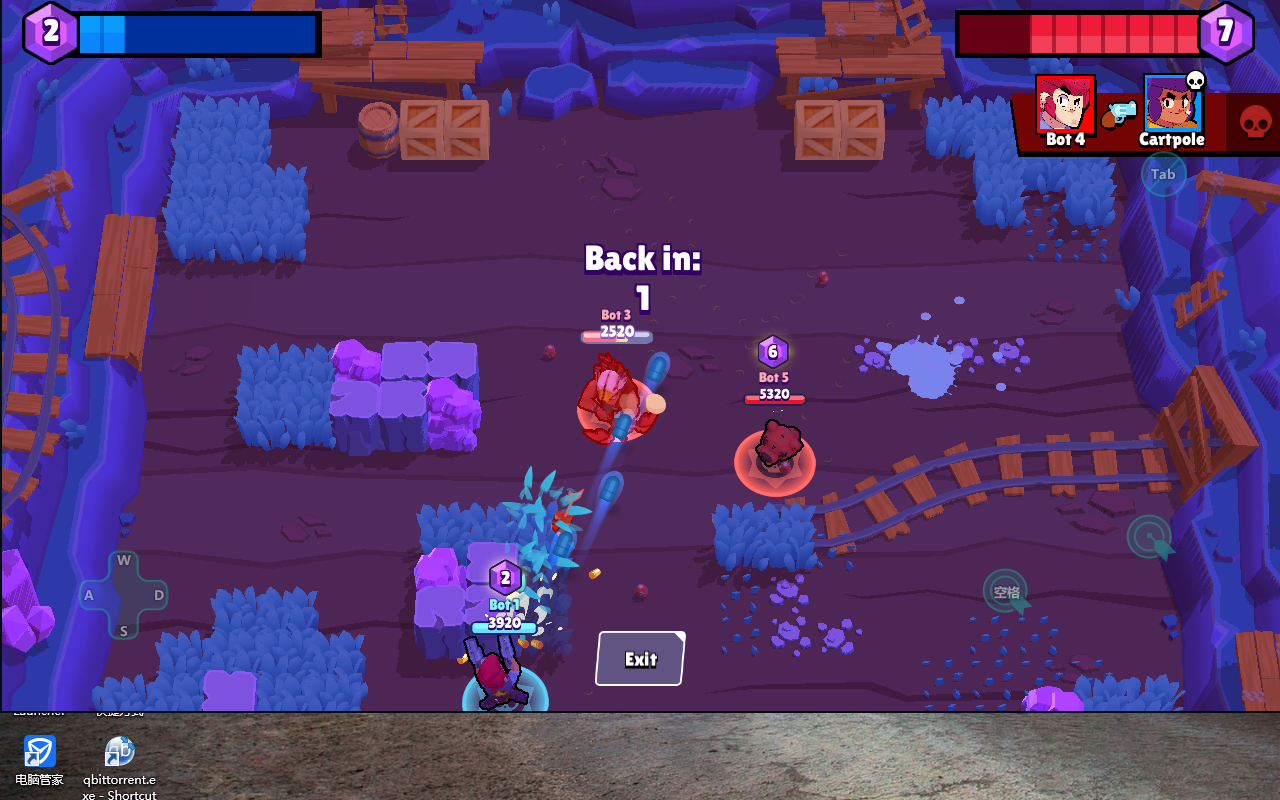current_player: (612, 326, 702, 393)
